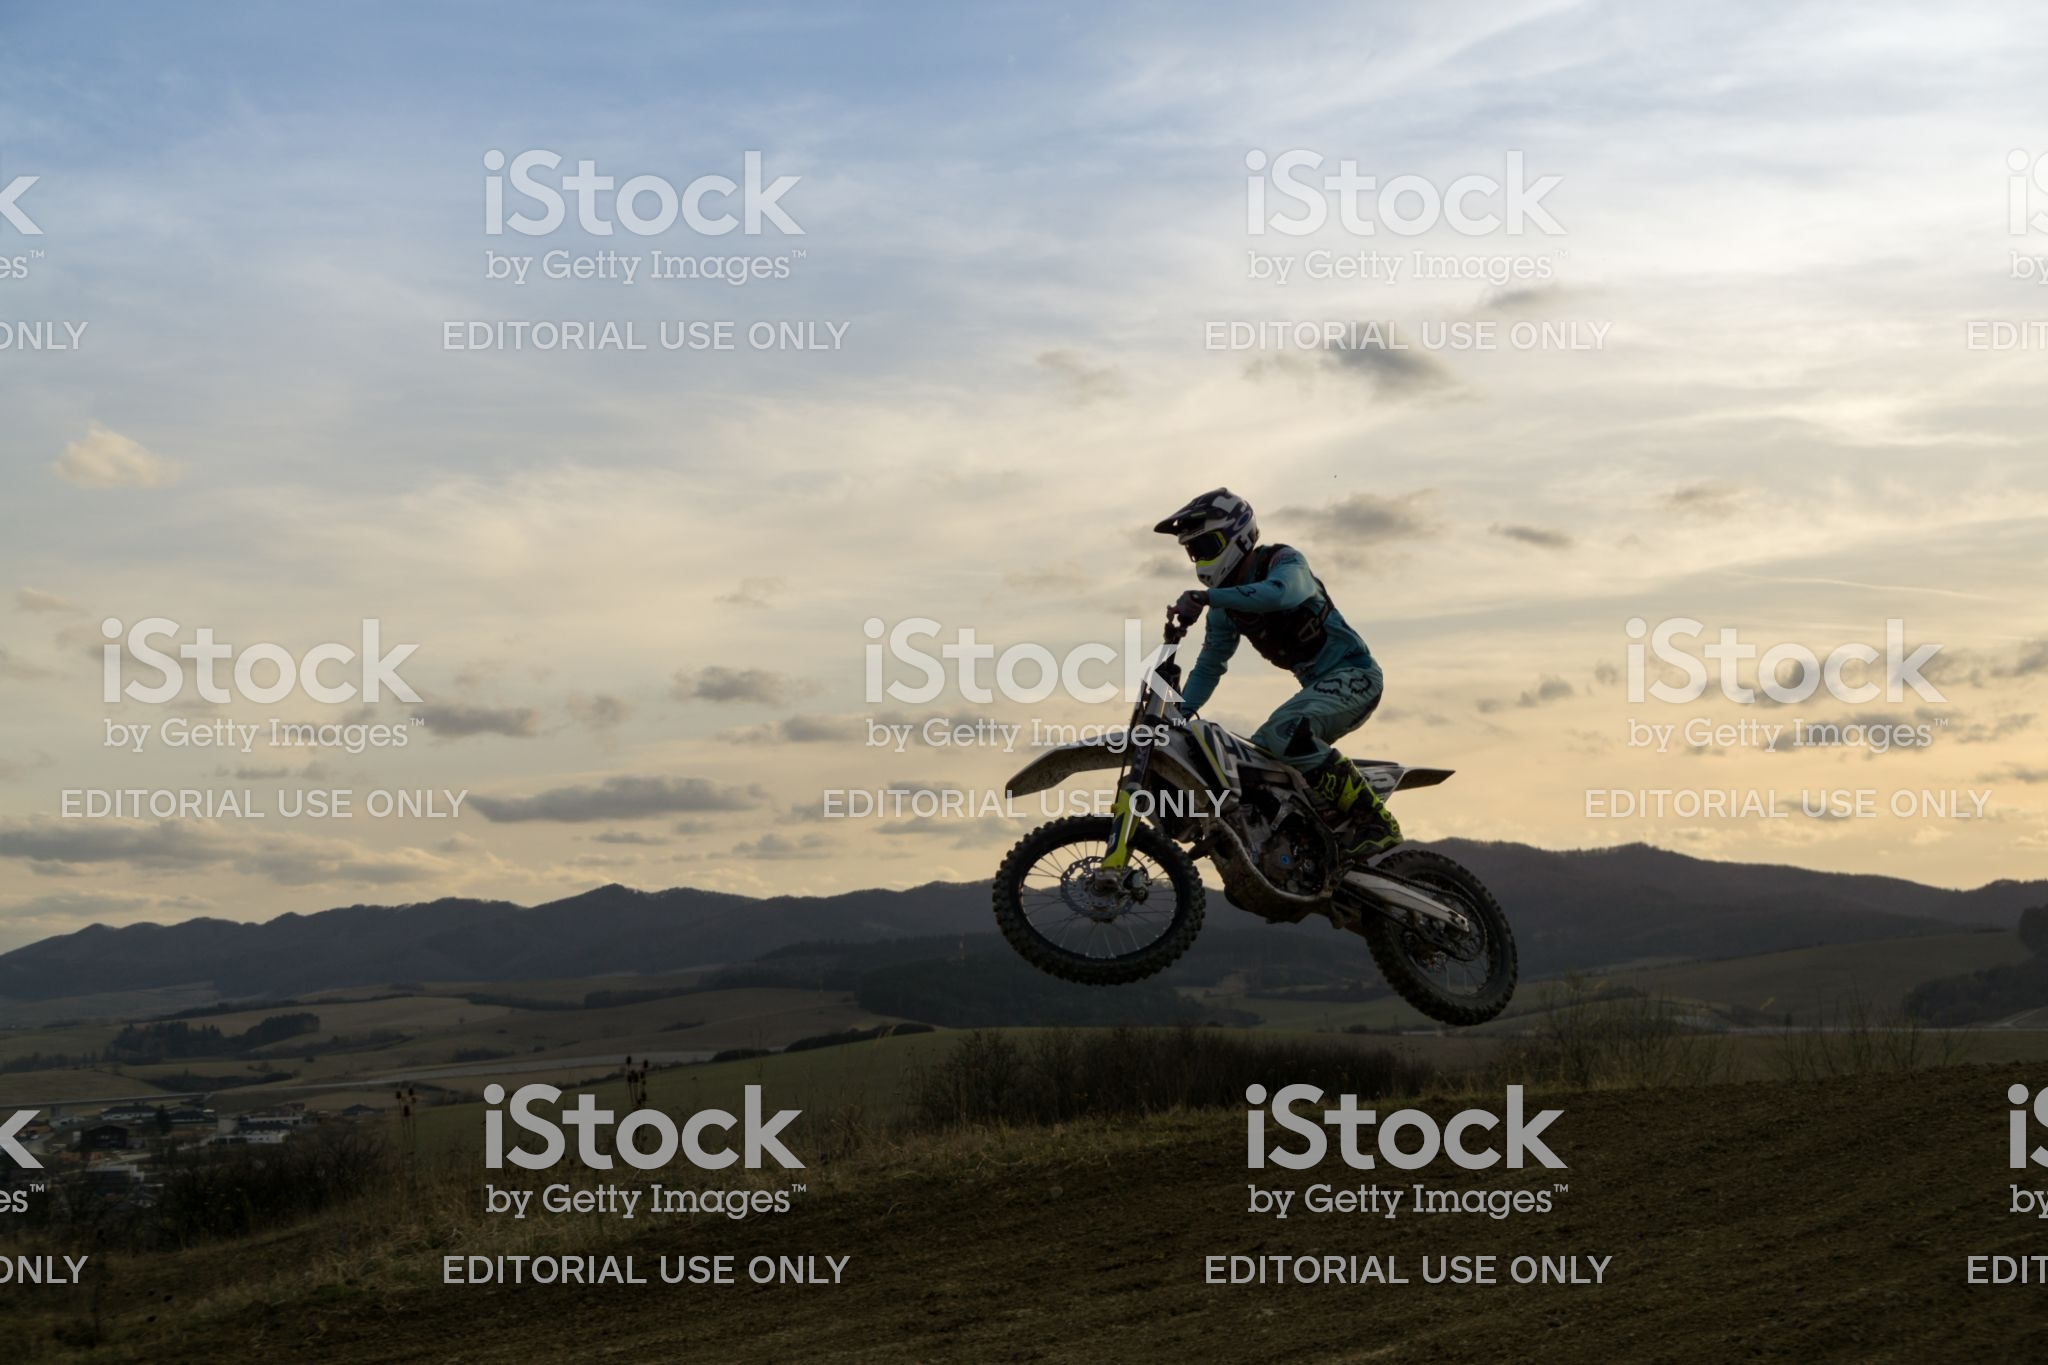helmet: (1154, 486, 1273, 567)
